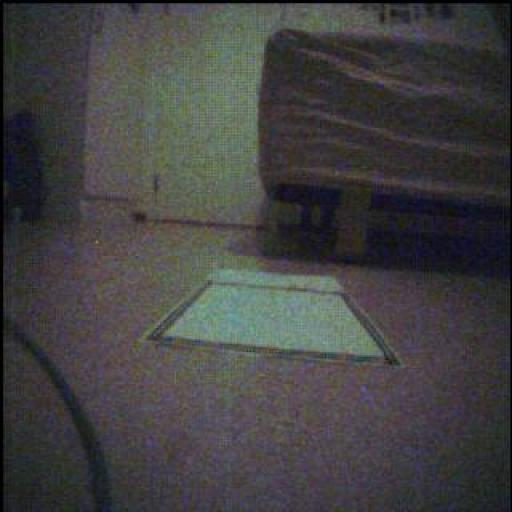pad: (147, 270, 400, 366)
